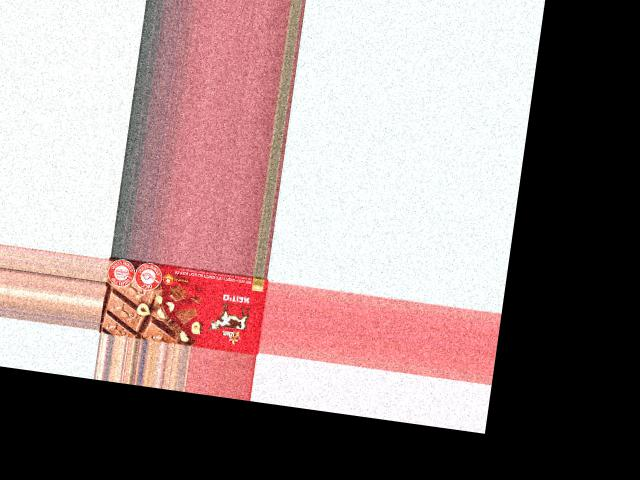chocolate: (99, 258, 269, 354)
